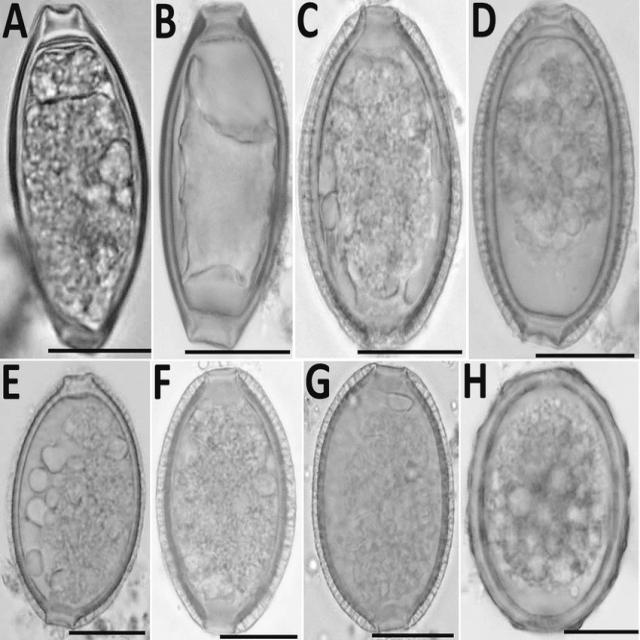Trichuris Trichiura: (300, 1, 468, 356), (470, 0, 634, 355), (7, 0, 154, 362), (157, 0, 297, 357)
